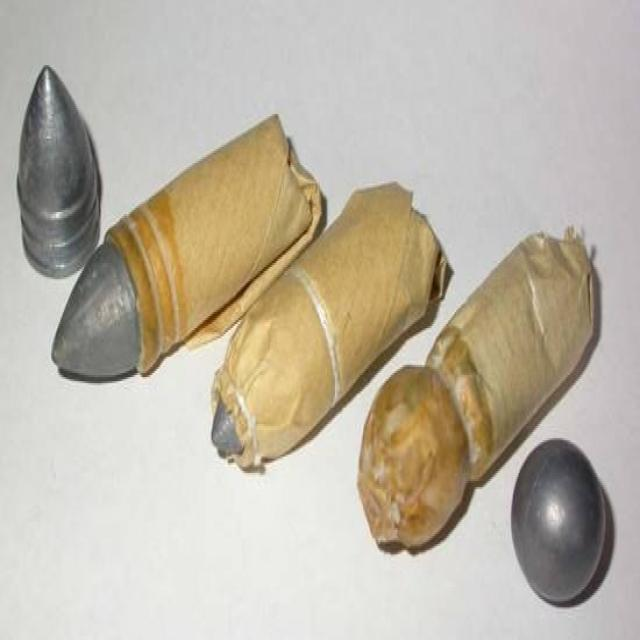grenade: (17, 64, 98, 279)
